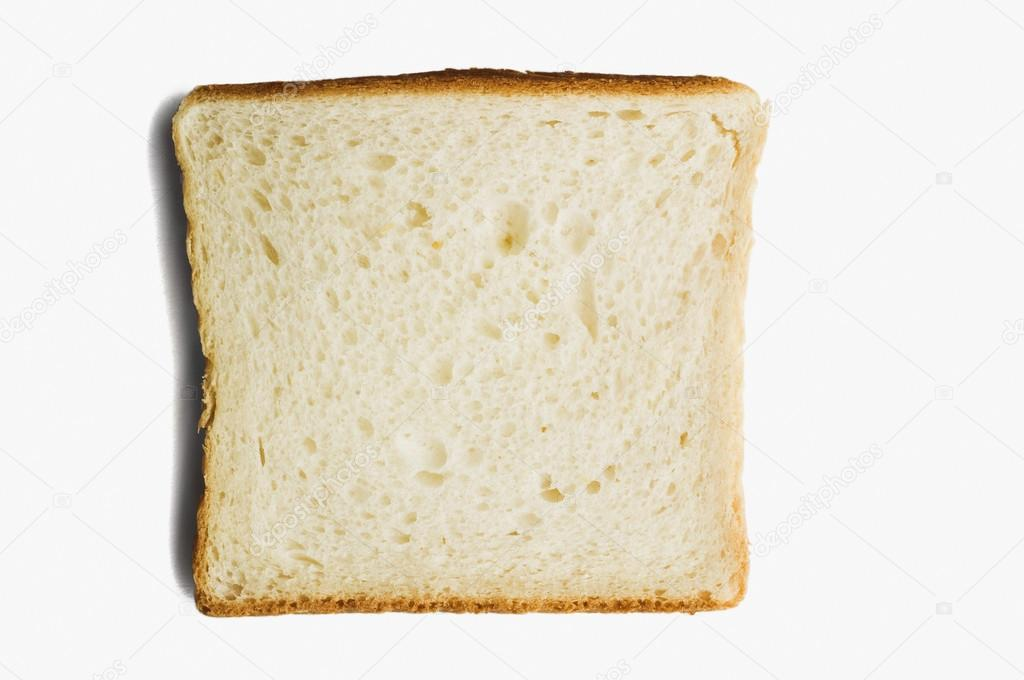slice of bread: (168, 101, 750, 604)
